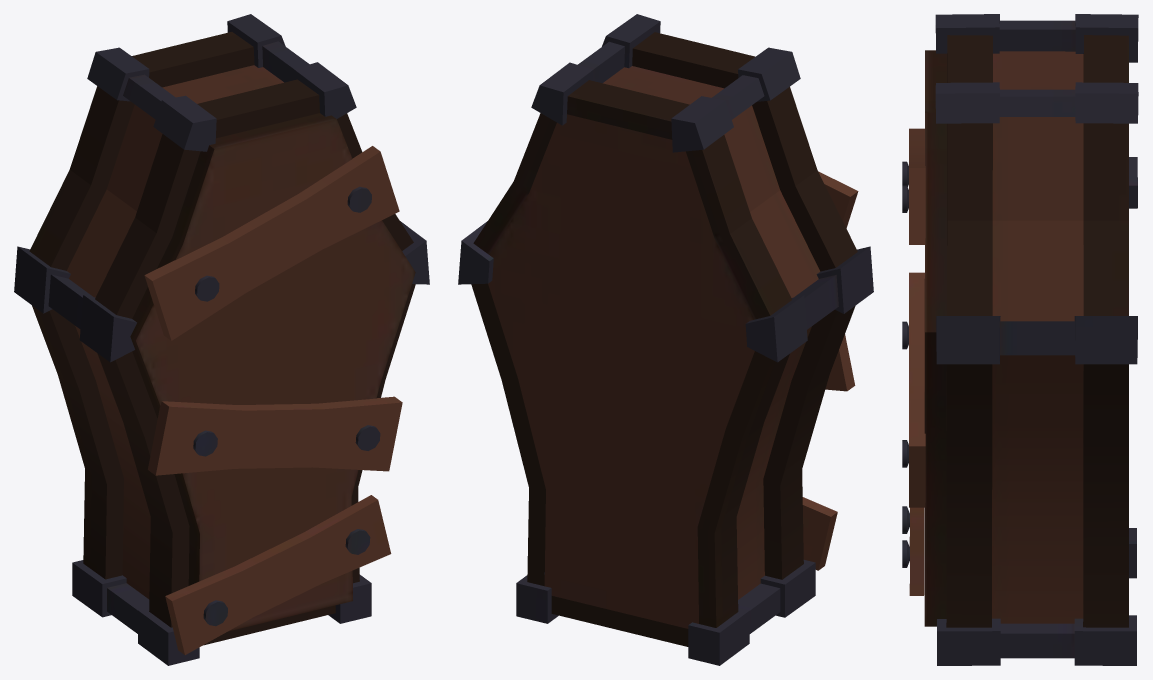
File: coffin_closed.glb
3 renders of one model, left to right at view 1: azimuth 30°, elevation 25°; view 2: azimuth 150°, elevation 25°; view 3: azimuth 270°, elevation 25°, orthographic. The views are drawn at different scales.
Parts seen in each view (by area): view 1: coffin_closed; view 2: coffin_closed; view 3: coffin_closed.
Boxes of the visible parts, x1=… form: coffin_closed: x1=14, y1=14, x2=429, y2=665; coffin_closed: x1=458, y1=14, x2=873, y2=665; coffin_closed: x1=902, y1=14, x2=1138, y2=665.
Size of the model in its own units: 1.47 by 2.36 by 0.8997.
Materials: 1 (1 with a texture image).
